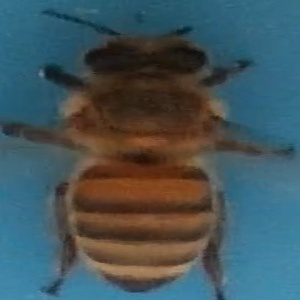bee: (15, 6, 282, 299)
